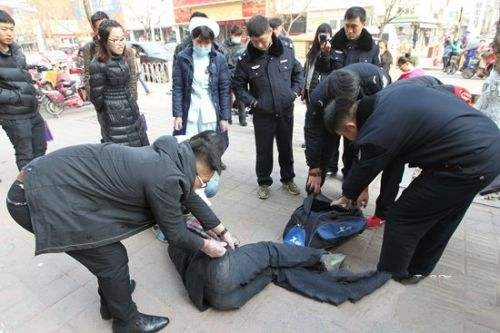10+: (1, 1, 488, 332)
down: (156, 197, 367, 311)
